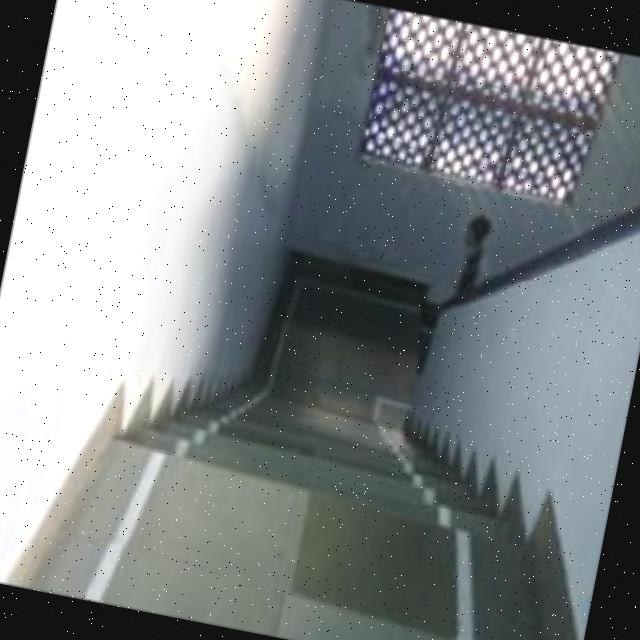stairs: (1, 213, 640, 640)
